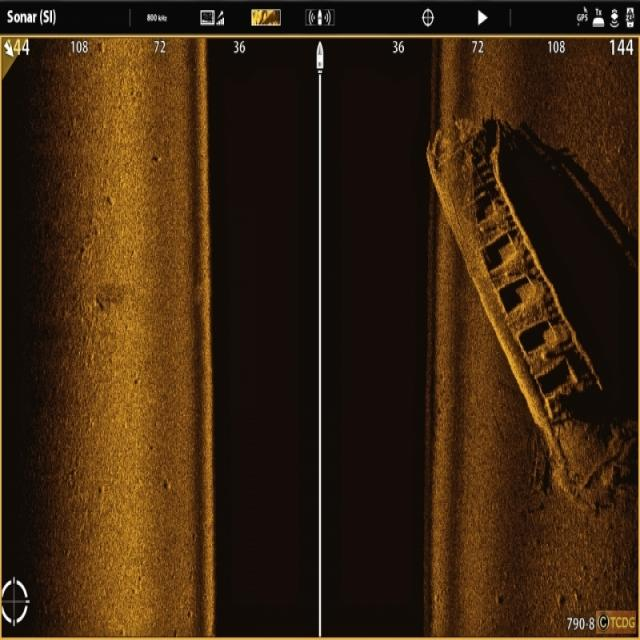ship: (424, 114, 622, 502)
